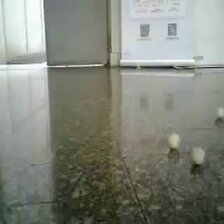w: (189, 147, 205, 163), (167, 133, 180, 150), (215, 107, 224, 119)
